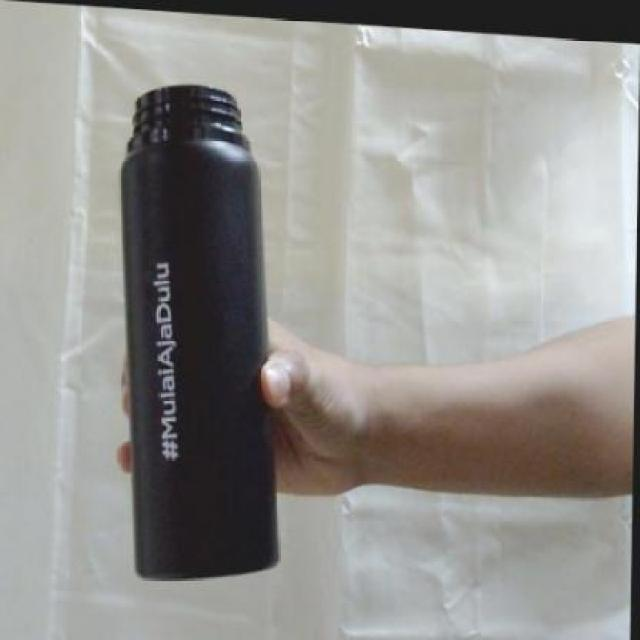Metal: (112, 70, 288, 587)
